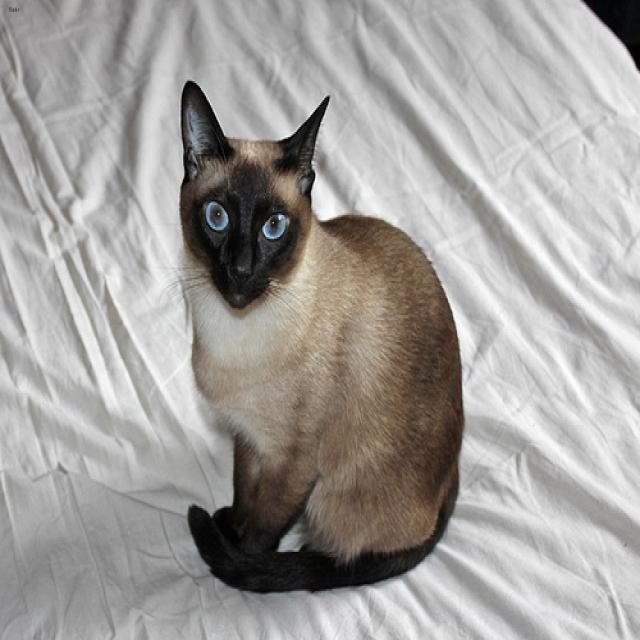Siamese: (178, 78, 328, 306)
